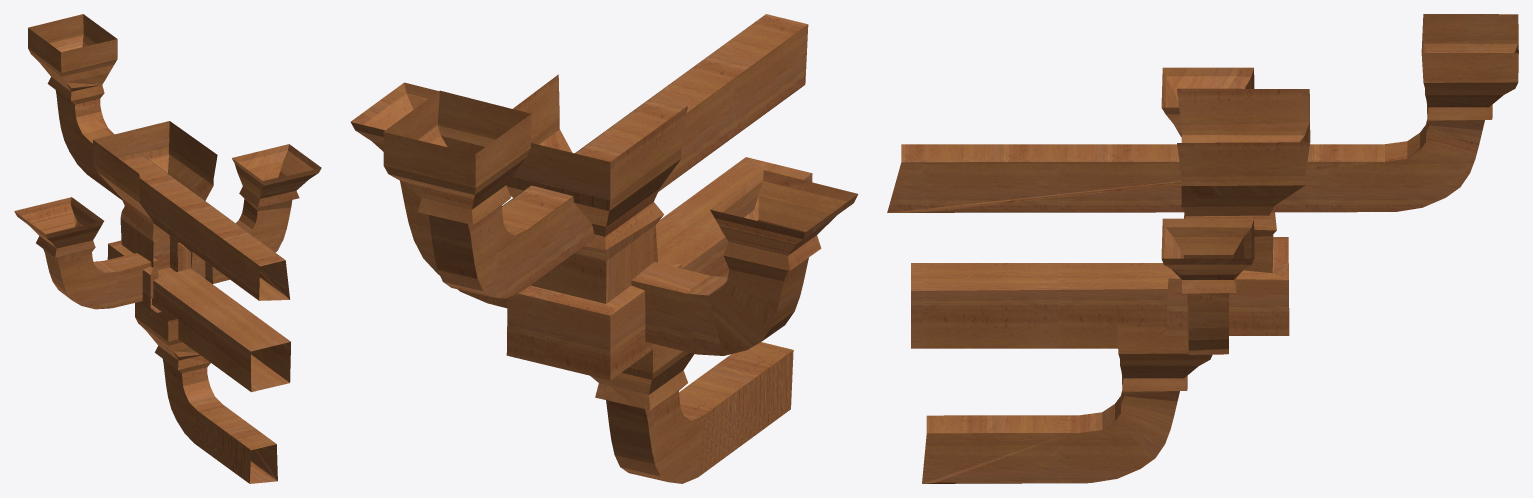
3 views of the same model, side by side, from view 1: azimuth 30°, elevation 25°; view 2: azimuth 150°, elevation 25°; view 3: azimuth 270°, elevation 25° (orthographic). The views are drawn at different scales.
Parts seen in each view (by area): view 1: R1L1; view 2: R1L1; view 3: R1L1.
Part boxes in pixels (left/top/right/bottom): R1L1: left=14, top=14, right=321, bottom=483; R1L1: left=350, top=14, right=858, bottom=483; R1L1: left=887, top=14, right=1518, bottom=483.
Size of the model in its own units: 34.74 by 37.42 by 48.52.
Materials: 1 (1 with a texture image).
